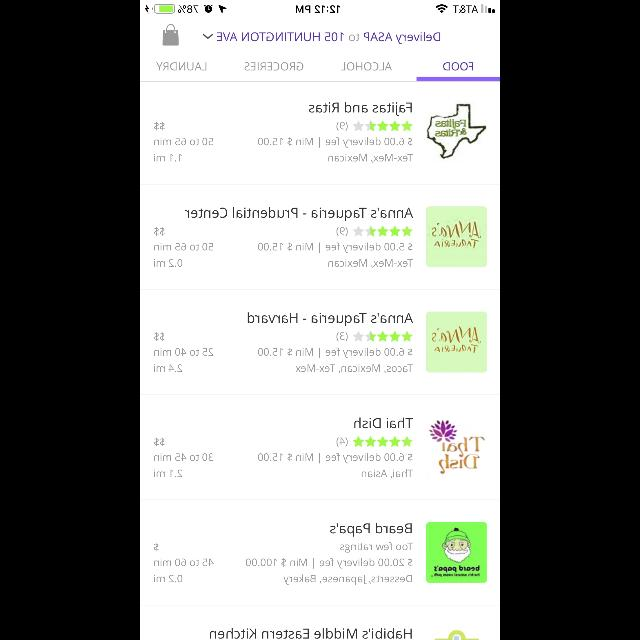icon: (353, 120, 413, 132), (352, 226, 412, 237), (353, 331, 413, 342), (352, 437, 412, 448), (162, 24, 178, 46), (202, 34, 214, 40)
image: (426, 206, 486, 268), (427, 312, 488, 372), (427, 522, 488, 582), (426, 104, 486, 158), (428, 420, 486, 474), (434, 630, 478, 640)
text: (245, 542, 412, 584), (258, 242, 414, 268), (258, 453, 414, 479), (258, 137, 412, 163), (258, 347, 412, 373), (185, 207, 413, 221), (216, 32, 439, 44), (247, 312, 413, 326), (210, 628, 412, 638), (308, 102, 412, 116), (330, 523, 412, 537), (353, 418, 412, 428), (154, 558, 214, 566), (154, 453, 214, 461), (154, 348, 214, 356), (244, 63, 304, 71), (154, 138, 213, 146), (154, 243, 213, 251), (341, 63, 392, 71), (156, 63, 206, 71), (443, 61, 473, 70), (154, 154, 182, 162), (154, 574, 182, 582), (154, 469, 182, 477), (154, 364, 182, 372), (154, 259, 182, 267), (337, 332, 348, 342), (337, 437, 348, 447), (337, 122, 348, 132), (337, 228, 348, 236), (154, 122, 164, 130), (154, 438, 164, 446), (154, 333, 164, 341), (154, 227, 164, 235), (154, 543, 158, 551)
uppertaskbar: (140, 0, 500, 14)
